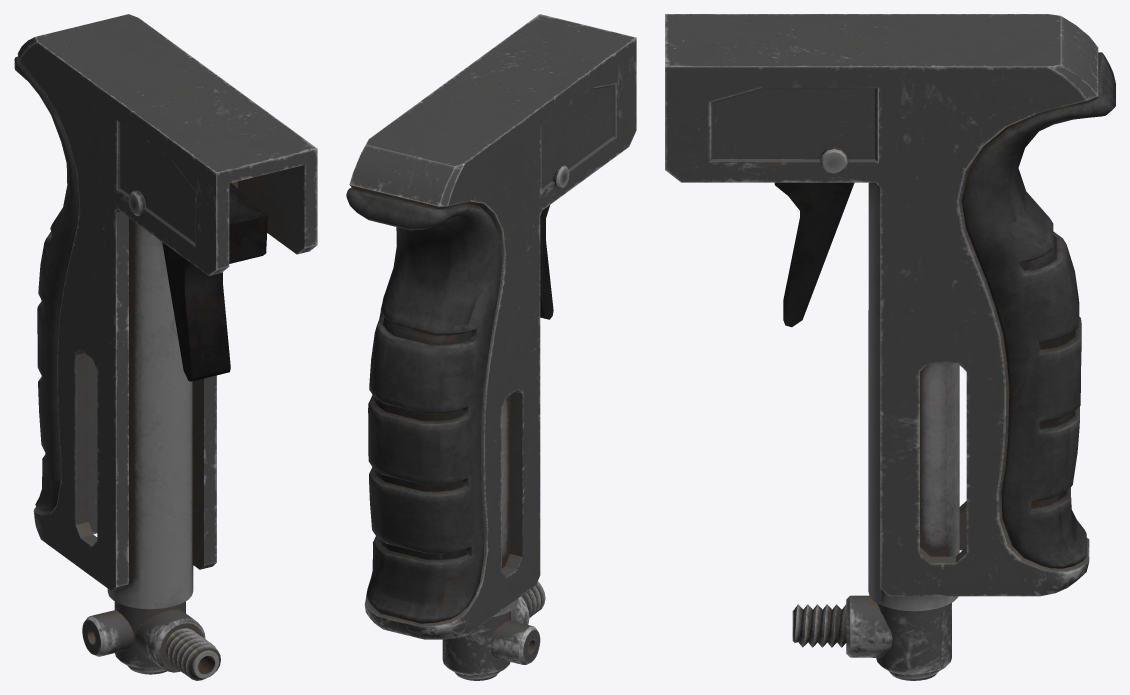
Rendered from Grip_3.glb.
3 views of the same model, side by side, from view 1: azimuth 30°, elevation 25°; view 2: azimuth 150°, elevation 25°; view 3: azimuth 270°, elevation 25° (orthographic). The views are drawn at different scales.
Parts seen in each view (by area): view 1: Grip_3; view 2: Grip_3; view 3: Grip_3.
Part boxes in pixels (<box>): Grip_3: <box>14,14,317,680</box>; Grip_3: <box>346,14,636,680</box>; Grip_3: <box>665,14,1115,680</box>.
Size of the model in its own units: 0.0403 by 0.2018 by 0.1308.
Materials: 1 (1 with a texture image).
